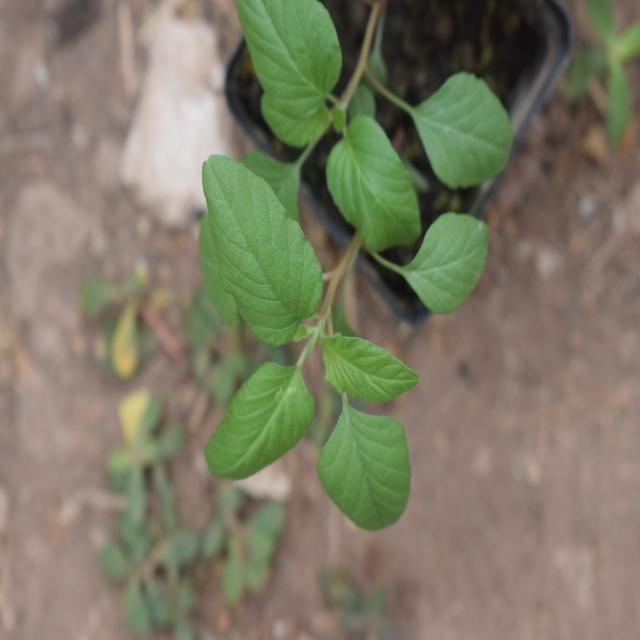pigweed: (202, 80, 434, 537)
